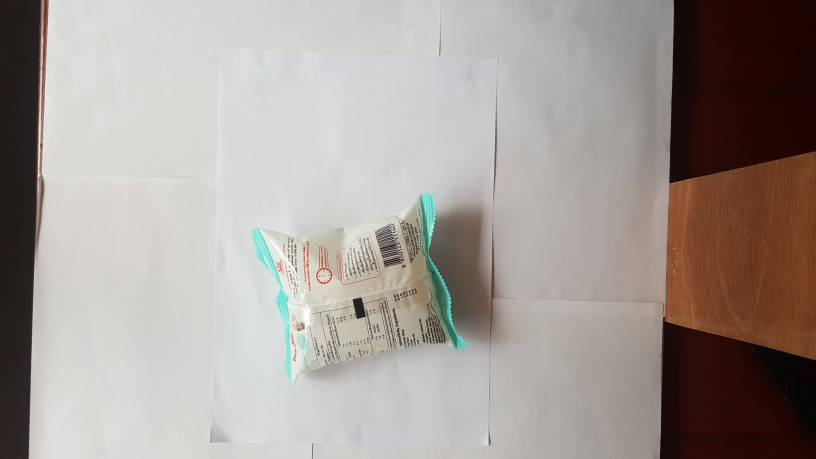farmhouse-sweetsandwich-chocolate: (253, 185, 472, 385)
